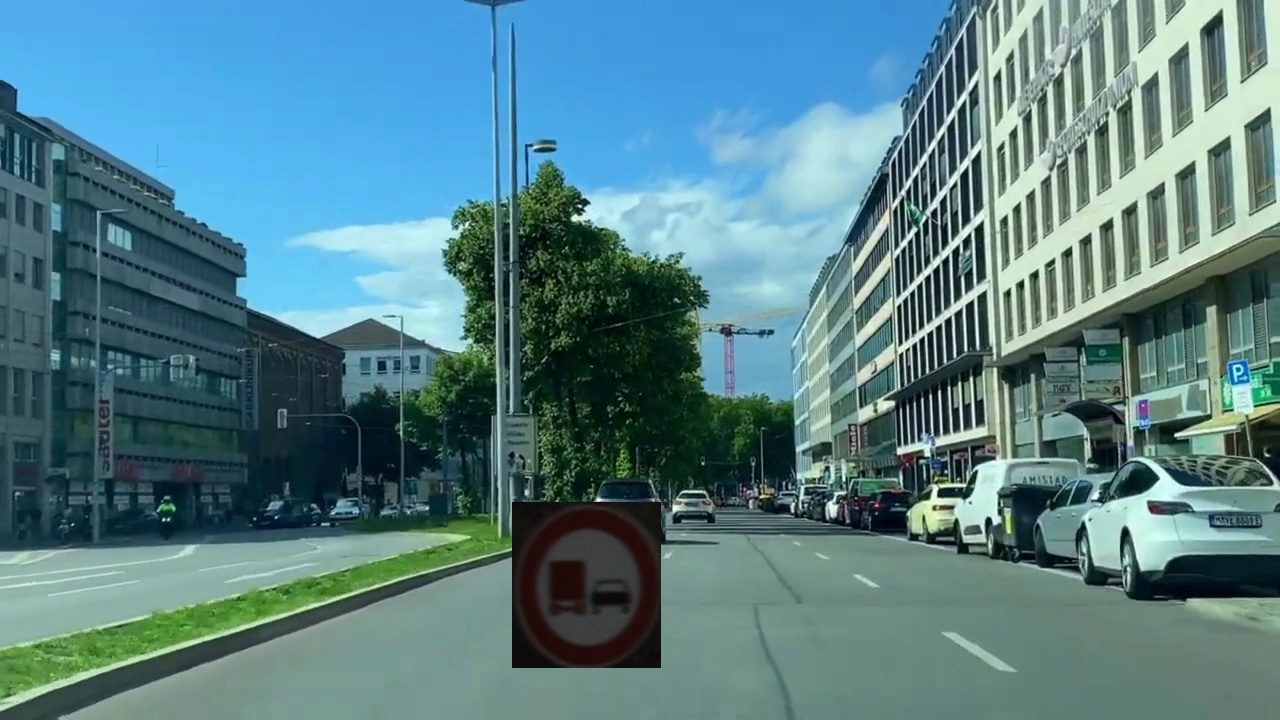No pass >3.5t: (512, 502, 661, 668)
